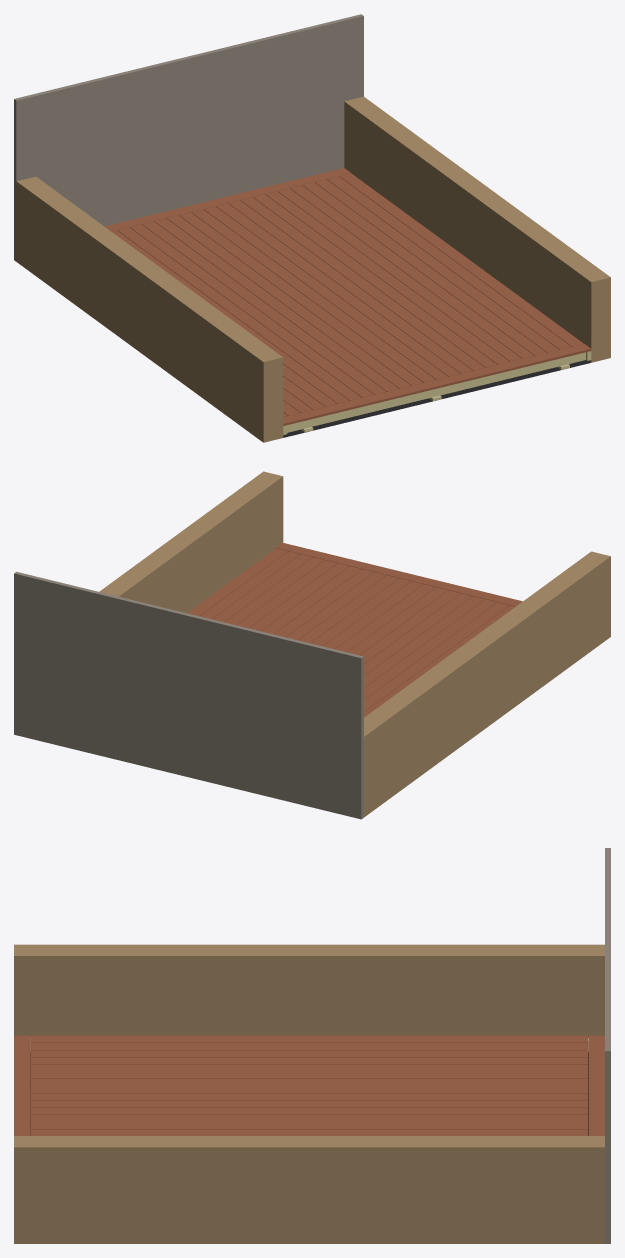
The model's file is decking-camden-town.glb.
The picture shows the model from 3 angles, top to bottom: view 1: azimuth 30°, elevation 25°; view 2: azimuth 150°, elevation 25°; view 3: azimuth 270°, elevation 25°; orthographic projection. The views are drawn at different scales.
Visible parts, largest first — view 1: Room: Fence at the far end, Room: Brick wall, left, Room: Brick wall, right, Boards: Board 24, Boards: Board 7, Boards: Board 9, Boards: Board 12, Boards: Board 13, Boards: Board 15, Boards: Board 16, Boards: Board 18, Boards: Board 19 (+16 smaller); view 2: Room: Fence at the far end, Room: Brick wall, left, Room: Brick wall, right, Boards: Border board, by the doors, Boards: Board 7, Boards: Board 8, Boards: Board 9, Boards: Board 10, Boards: Board 11, Boards: Board 12, Boards: Board 13, Boards: Board 16 (+12 smaller); view 3: Room: Brick wall, right, Room: Brick wall, left, Boards: Board 1, Boards: Board 2, Boards: Board 3, Boards: Board 4, Boards: Board 5, Boards: Board 6, Boards: Board 8, Boards: Board 9, Boards: Board 10, Boards: Board 11 (+7 smaller).
Boxes of the visible parts, left/top/right/bottom form: Room: Fence at the far end: left=14, top=14, right=363, bottom=261; Room: Brick wall, left: left=16, top=176, right=283, bottom=442; Room: Brick wall, right: left=344, top=96, right=610, bottom=362; Boards: Board 24: left=327, top=176, right=571, bottom=349; Boards: Board 7: left=117, top=227, right=361, bottom=400; Boards: Board 9: left=142, top=221, right=386, bottom=394; Boards: Board 12: left=179, top=212, right=423, bottom=385; Boards: Board 13: left=191, top=209, right=435, bottom=382; Boards: Board 15: left=216, top=203, right=460, bottom=376; Boards: Board 16: left=228, top=200, right=472, bottom=373; Boards: Board 18: left=253, top=194, right=497, bottom=367; Boards: Board 19: left=265, top=191, right=509, bottom=364; Room: Fence at the far end: left=14, top=571, right=363, bottom=819; Room: Brick wall, left: left=364, top=551, right=610, bottom=817; Room: Brick wall, right: left=99, top=471, right=283, bottom=613; Boards: Border board, by the doors: left=276, top=543, right=522, bottom=606; Boards: Board 7: left=364, top=602, right=509, bottom=711; Boards: Board 8: left=364, top=599, right=497, bottom=699; Boards: Board 9: left=364, top=596, right=485, bottom=687; Boards: Board 10: left=364, top=593, right=472, bottom=675; Boards: Board 11: left=360, top=590, right=460, bottom=663; Boards: Board 12: left=347, top=587, right=448, bottom=655; Boards: Board 13: left=335, top=584, right=435, bottom=652; Boards: Board 16: left=298, top=575, right=398, bottom=643; Room: Brick wall, right: left=14, top=1136, right=604, bottom=1243; Room: Brick wall, left: left=14, top=944, right=604, bottom=1052; Boards: Board 1: left=31, top=1035, right=587, bottom=1042; Boards: Board 2: left=31, top=1043, right=587, bottom=1050; Boards: Board 3: left=31, top=1050, right=587, bottom=1057; Boards: Board 4: left=31, top=1057, right=587, bottom=1064; Boards: Board 5: left=31, top=1064, right=587, bottom=1071; Boards: Board 6: left=31, top=1071, right=587, bottom=1078; Boards: Board 8: left=31, top=1086, right=587, bottom=1093; Boards: Board 9: left=31, top=1093, right=587, bottom=1100; Boards: Board 10: left=31, top=1100, right=587, bottom=1107; Boards: Board 11: left=31, top=1107, right=587, bottom=1114.
Bounding box in the file's own units: 4.06 × 1.8 × 5.05.
